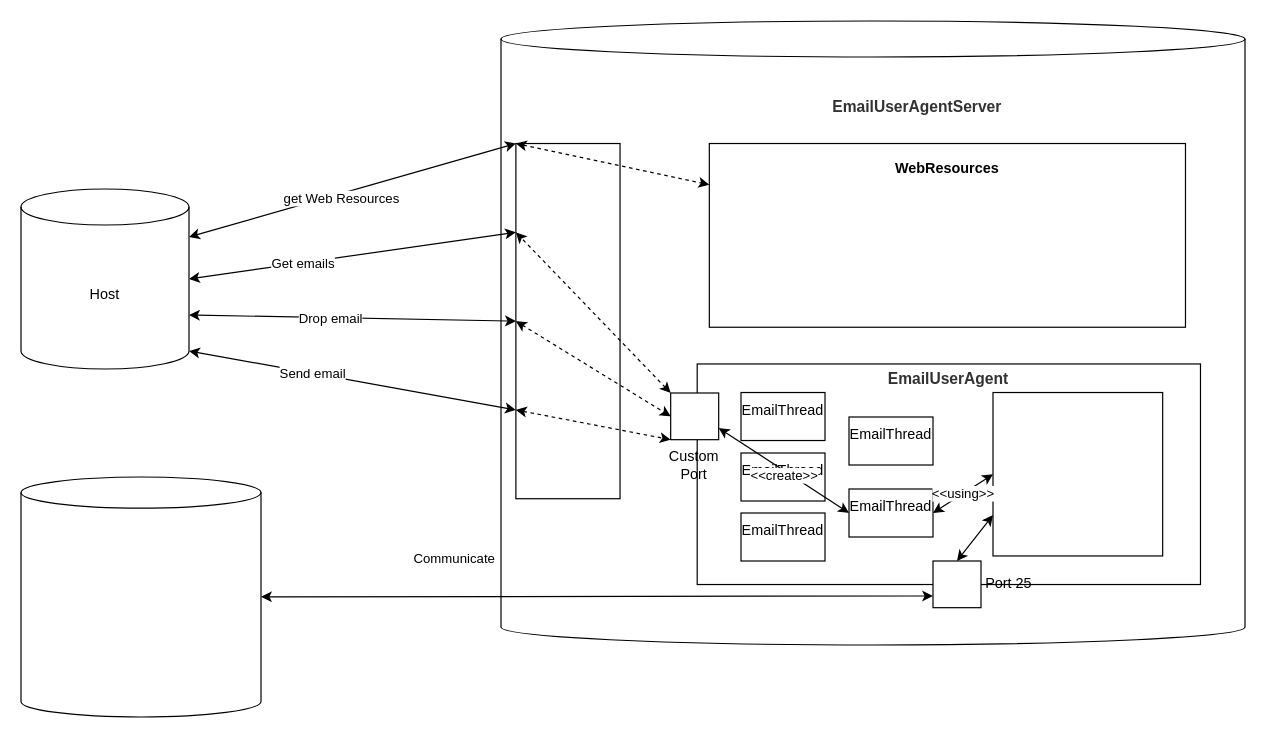
Image size: 1266x738. Some labels were removed from this diagram. Each missing label, with the box of its shape:
Email Service: (992, 391, 1163, 556)
QQ/163 email Server: (20, 476, 261, 717)
Socket: (515, 142, 620, 499)
